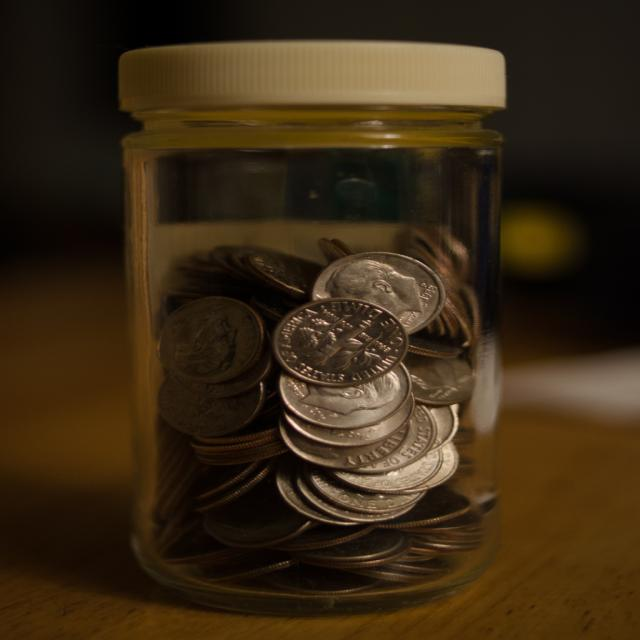Coin: (161, 228, 488, 599)
